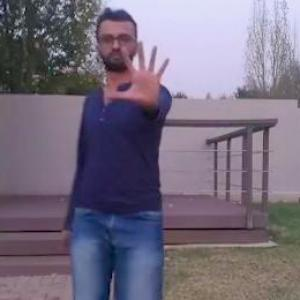follow_hand: (104, 39, 173, 106)
